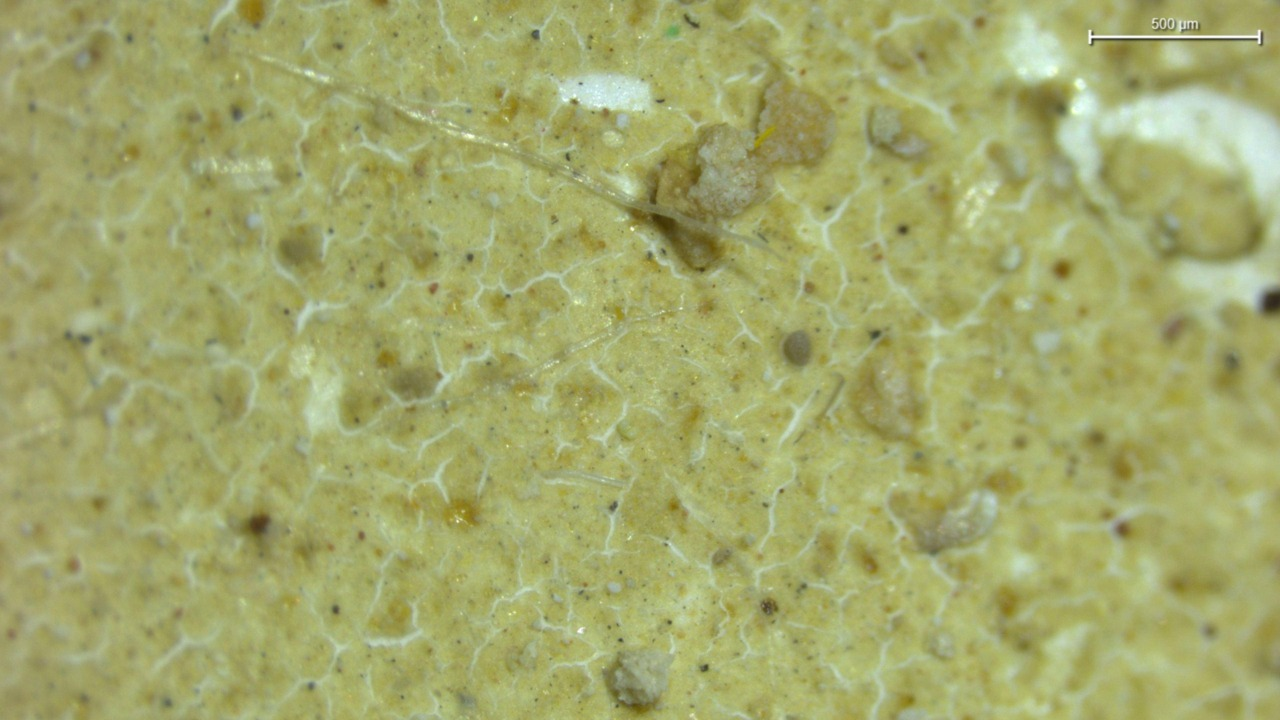microplastic_fragment: (649, 144, 722, 269), (686, 123, 764, 215), (757, 79, 837, 163), (604, 647, 676, 714)
